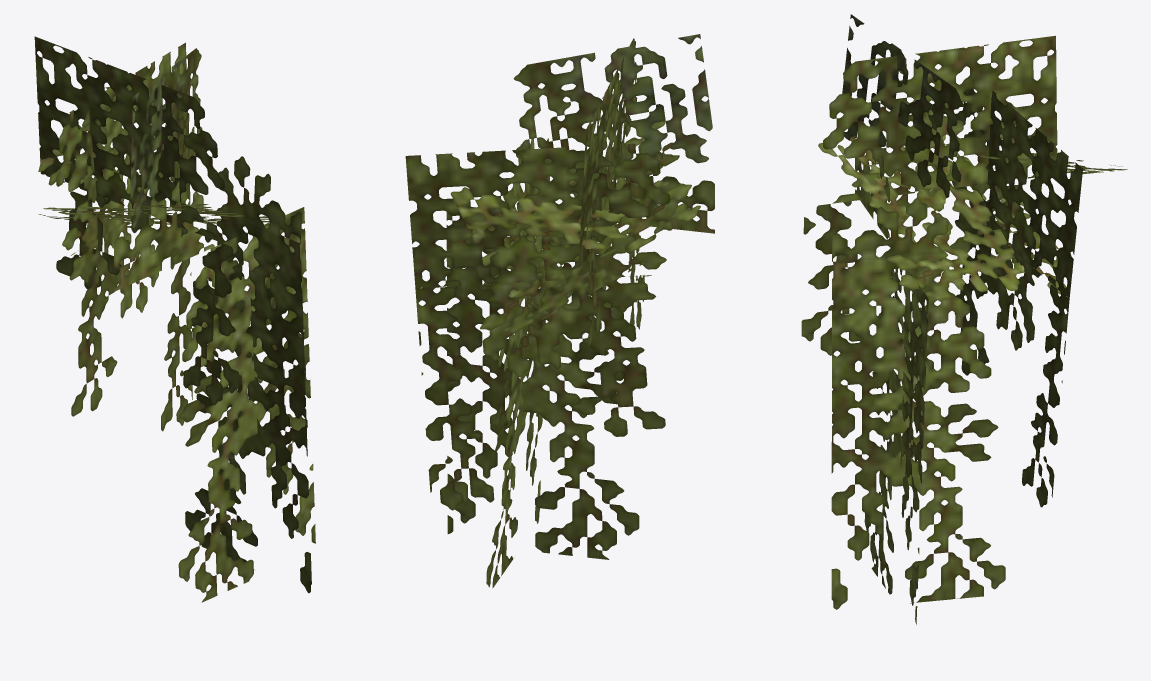
File: birch_leaves_yellowish_3.obj
The picture shows the model from 3 angles, left to right: view 1: azimuth 30°, elevation 25°; view 2: azimuth 150°, elevation 25°; view 3: azimuth 270°, elevation 25°; orthographic projection. The views are drawn at different scales.
Parts seen in each view (by area): view 1: south, east, north, west, bottom, top; view 2: west, east, south, bottom, north, top; view 3: north, south, west, bottom, east.
Part boxes in pixels (left/top/right/bottom): south: left=34, top=36, right=242, bottom=404; east: left=114, top=181, right=315, bottom=602; north: left=185, top=156, right=311, bottom=593; west: left=56, top=42, right=192, bottom=431; bottom: left=38, top=204, right=290, bottom=227; top: left=38, top=85, right=131, bottom=185; west: left=405, top=143, right=670, bottom=510; east: left=446, top=142, right=714, bottom=559; south: left=513, top=34, right=712, bottom=346; bottom: left=472, top=121, right=700, bottom=333; north: left=486, top=138, right=550, bottom=588; top: left=450, top=187, right=628, bottom=251; north: left=831, top=198, right=1005, bottom=609; south: left=801, top=14, right=1057, bottom=355; west: left=945, top=89, right=1082, bottom=507; bottom: left=818, top=134, right=1072, bottom=300; east: left=855, top=150, right=928, bottom=624.
Bounding box in the file's own units: 2.11 × 3.6 × 2.1.
